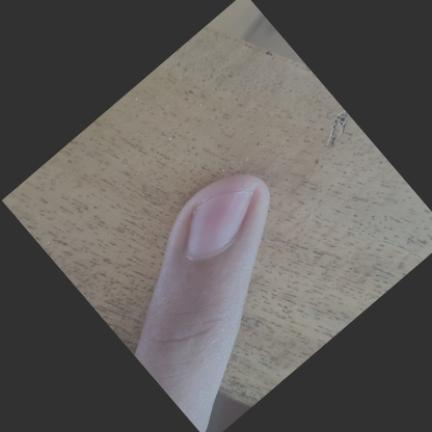Nail: (188, 192, 252, 257)
